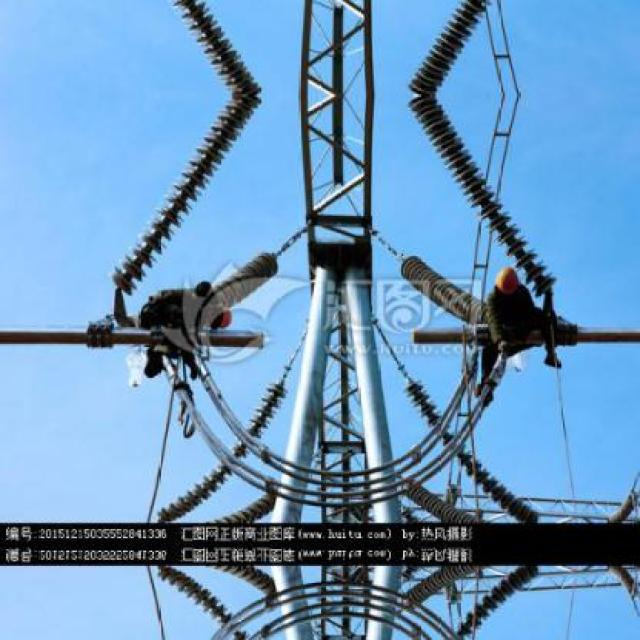helmet: (206, 299, 240, 329), (492, 264, 520, 293)
